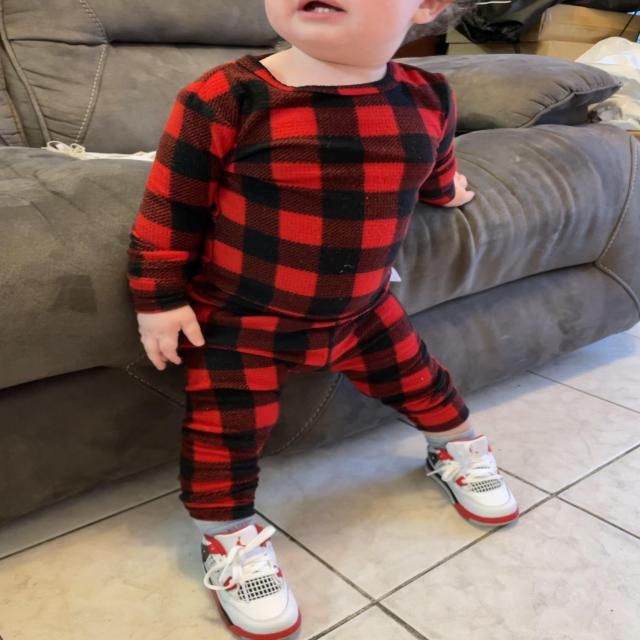shoe: (196, 523, 305, 639), (425, 434, 524, 529)
